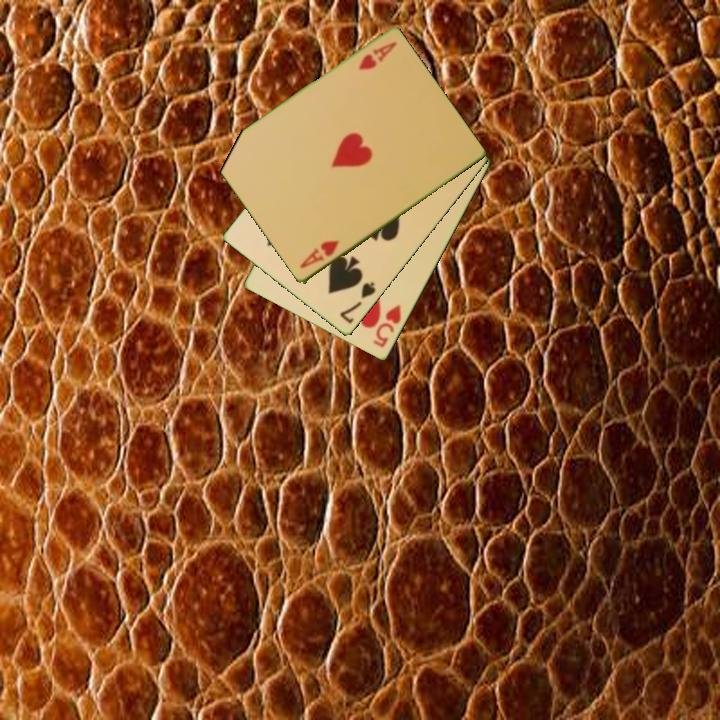5h: (370, 301, 404, 351)
7s: (336, 279, 379, 327)
Ah: (296, 237, 342, 272), (355, 38, 400, 73)
